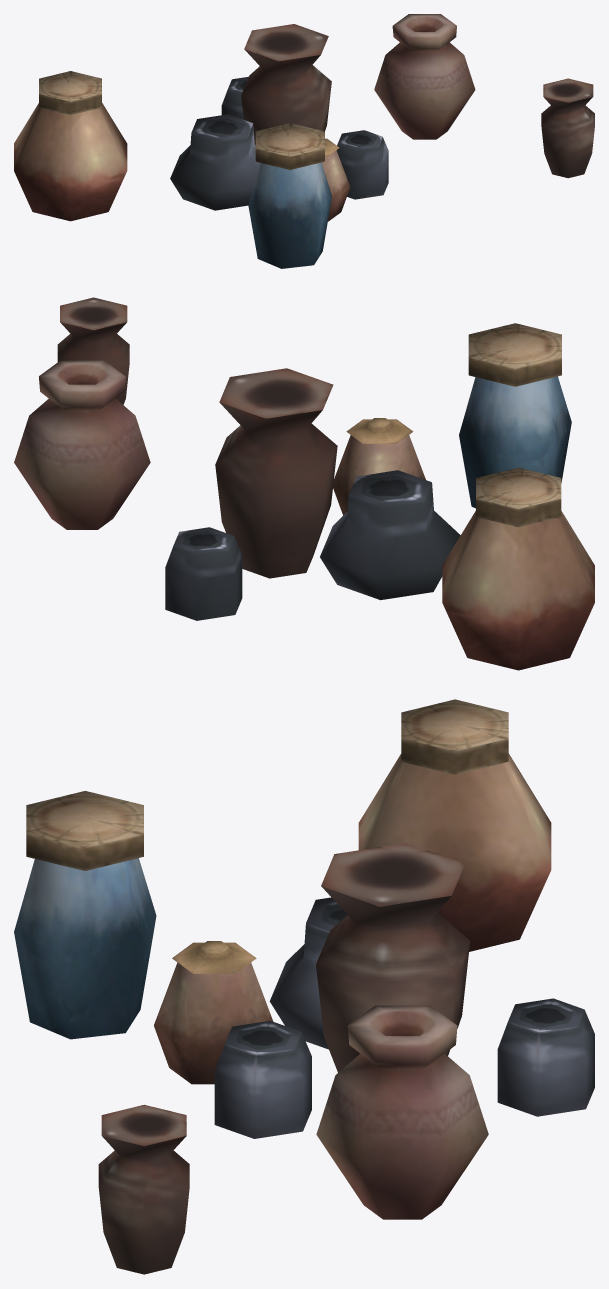
File: Map_04_bottle01.FBX
3 views of the same model, one above another, from view 1: azimuth 30°, elevation 25°; view 2: azimuth 150°, elevation 25°; view 3: azimuth 270°, elevation 25° (orthographic). The views are drawn at different scales.
Parts seen in each view (by area): view 1: Map_04_bottle01; view 2: Map_04_bottle01; view 3: Map_04_bottle01.
Boxes of the visible parts, left/top/right/bottom form: Map_04_bottle01: left=14, top=14, right=594, bottom=268; Map_04_bottle01: left=14, top=297, right=594, bottom=670; Map_04_bottle01: left=14, top=699, right=594, bottom=1274.
Size of the model in its own units: 36.19 by 8.84 by 21.84.
